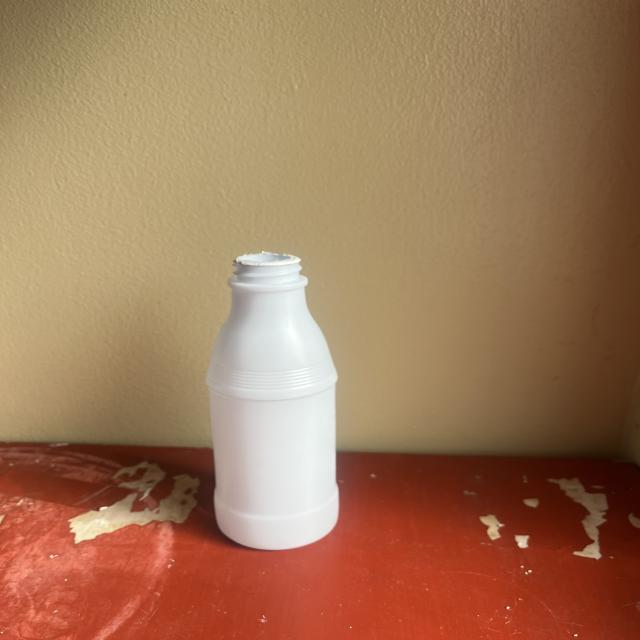HDPE_Bottle: (207, 252, 338, 549)
